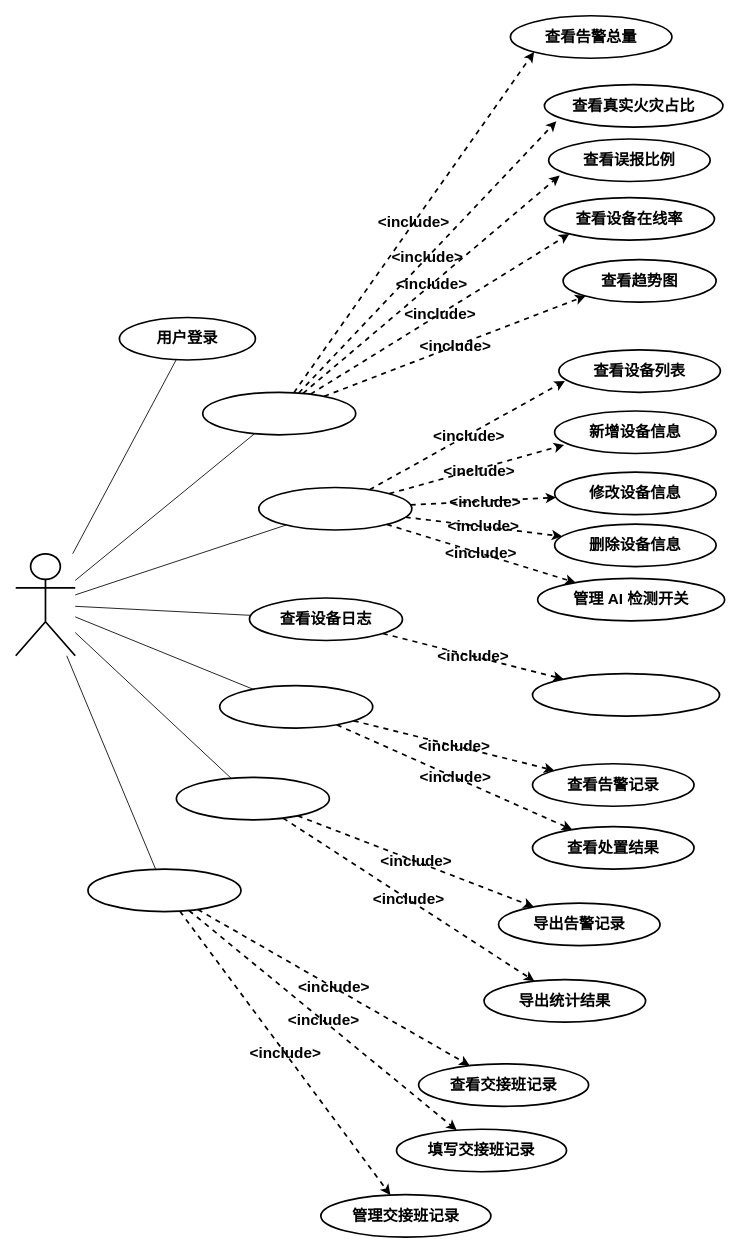
Some shapes in this 740 by 1252 pixel diagram are drawn without their labels. Each missing label, with the box of its shape:
安全主管: (14, 552, 76, 656)
导出业务数据: (175, 776, 330, 820)
查看上线掉线记录: (531, 672, 720, 717)
查看统计分析: (201, 391, 356, 435)
查询历史告警: (218, 684, 373, 728)
管理交接班日志: (87, 868, 241, 912)
管理设备信息: (258, 486, 412, 530)
